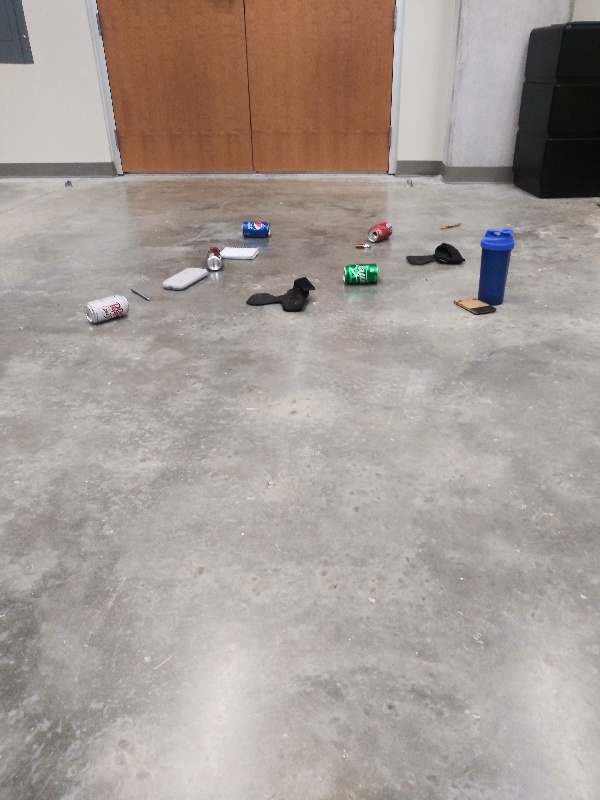can: (84, 294, 131, 326), (339, 262, 382, 287), (238, 217, 272, 240), (367, 220, 396, 244), (204, 244, 224, 273)
